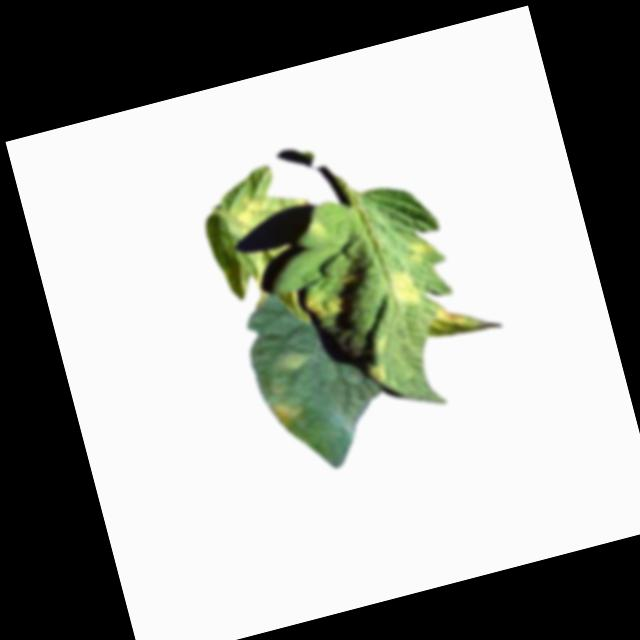Leaf_Mold: (423, 292, 498, 345), (224, 190, 273, 236), (299, 284, 344, 324), (385, 266, 422, 313), (264, 393, 305, 429), (269, 344, 312, 376), (398, 232, 442, 263)
